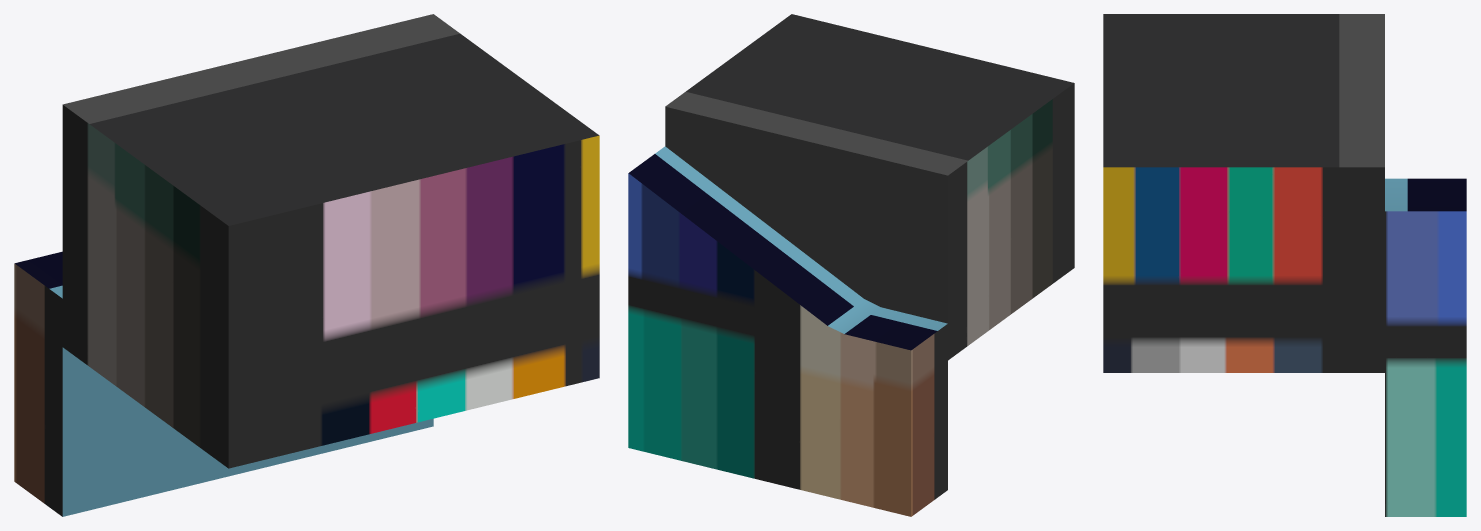
File: tile_5_1_6.gltf
3 views of the same model, side by side, from view 1: azimuth 30°, elevation 25°; view 2: azimuth 150°, elevation 25°; view 3: azimuth 270°, elevation 25° (orthographic). The views are drawn at different scales.
Visible parts, largest first — view 1: arena.floor.main.029, arena.floor.corners.046; view 2: arena.floor.main.029, arena.floor.corners.046; view 3: arena.floor.main.029, arena.floor.corners.046.
Boxes of the visible parts, bbox=[...] form: arena.floor.main.029: bbox=[62, 14, 599, 468]; arena.floor.corners.046: bbox=[14, 251, 433, 516]; arena.floor.main.029: bbox=[665, 14, 1074, 360]; arena.floor.corners.046: bbox=[628, 146, 947, 516]; arena.floor.main.029: bbox=[1103, 14, 1384, 372]; arena.floor.corners.046: bbox=[1385, 178, 1466, 516].
Bounding box in the file's own units: 8 × 8.5 × 8.
Materials: 1 (1 with a texture image).
